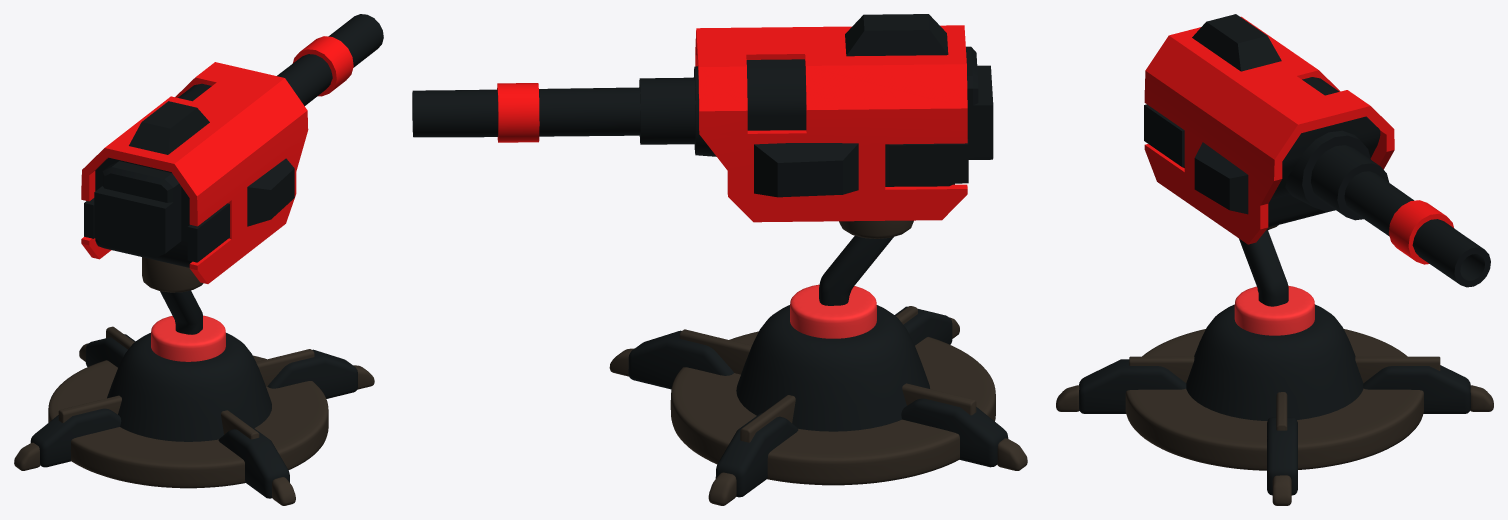
The model's file is turret.fbx.
The picture shows the model from 3 angles, left to right: view 1: azimuth 30°, elevation 25°; view 2: azimuth 150°, elevation 25°; view 3: azimuth 270°, elevation 25°; orthographic projection. The views are drawn at different scales.
Parts seen in each view (by area): view 1: Cube.010, Cylinder, Cylinder.001, Cube.001, Cube.002, Cube.003, Cylinder.002, Cube.011, Cube.013, Cube.012, Cube, Cube.017 (+6 smaller); view 2: Cube.010, Cylinder, Cylinder.001, Cylinder.002, Cube.002, Cube.013, Cube, Cube.003, Cube.011, Cube.012, Cube.001, Cube.004 (+6 smaller); view 3: Cube.010, Cylinder, Cylinder.001, Cylinder.002, Cube.003, Cube, Cube.011, Cube.013, Cube.004, Cube.015, Cube.002, Cylinder.008 (+3 smaller).
Part boxes in pixels (left/top/right/bottom): Cube.010: left=81, top=62, right=308, bottom=283; Cylinder: left=48, top=315, right=328, bottom=488; Cylinder.001: left=107, top=333, right=271, bottom=441; Cube.001: left=94, top=161, right=181, bottom=257; Cube.002: left=30, top=349, right=357, bottom=467; Cube.003: left=85, top=334, right=289, bottom=498; Cylinder.002: left=277, top=14, right=383, bottom=105; Cube.011: left=129, top=101, right=209, bottom=154; Cube.013: left=247, top=158, right=294, bottom=226; Cube.012: left=84, top=198, right=229, bottom=262; Cube: left=95, top=83, right=211, bottom=267; Cube.017: left=58, top=349, right=314, bottom=422; Cube.010: left=695, top=25, right=967, bottom=222; Cylinder: left=670, top=284, right=995, bottom=485; Cylinder.001: left=736, top=305, right=929, bottom=431; Cylinder.002: left=412, top=66, right=716, bottom=156; Cube.002: left=628, top=330, right=1008, bottom=467; Cube.013: left=754, top=143, right=858, bottom=197; Cube: left=746, top=59, right=954, bottom=186; Cube.003: left=715, top=306, right=952, bottom=497; Cube.011: left=845, top=14, right=948, bottom=56; Cube.012: left=889, top=139, right=968, bottom=184; Cube.001: left=966, top=46, right=993, bottom=159; Cube.004: left=819, top=236, right=893, bottom=305; Cube.010: left=1144, top=16, right=1394, bottom=244; Cylinder: left=1125, top=286, right=1423, bottom=470; Cylinder.001: left=1186, top=304, right=1363, bottom=420; Cylinder.002: left=1285, top=130, right=1490, bottom=287; Cube.003: left=1079, top=359, right=1470, bottom=413; Cube: left=1183, top=77, right=1380, bottom=227; Cube.011: left=1192, top=14, right=1281, bottom=71; Cube.013: left=1194, top=142, right=1248, bottom=214; Cube.004: left=1239, top=230, right=1288, bottom=306; Cube.015: left=1129, top=356, right=1440, bottom=399; Cube.002: left=1267, top=417, right=1297, bottom=495; Cylinder.008: left=1388, top=200, right=1453, bottom=264.
Size of the model in its own units: 646 by 467 by 512.
